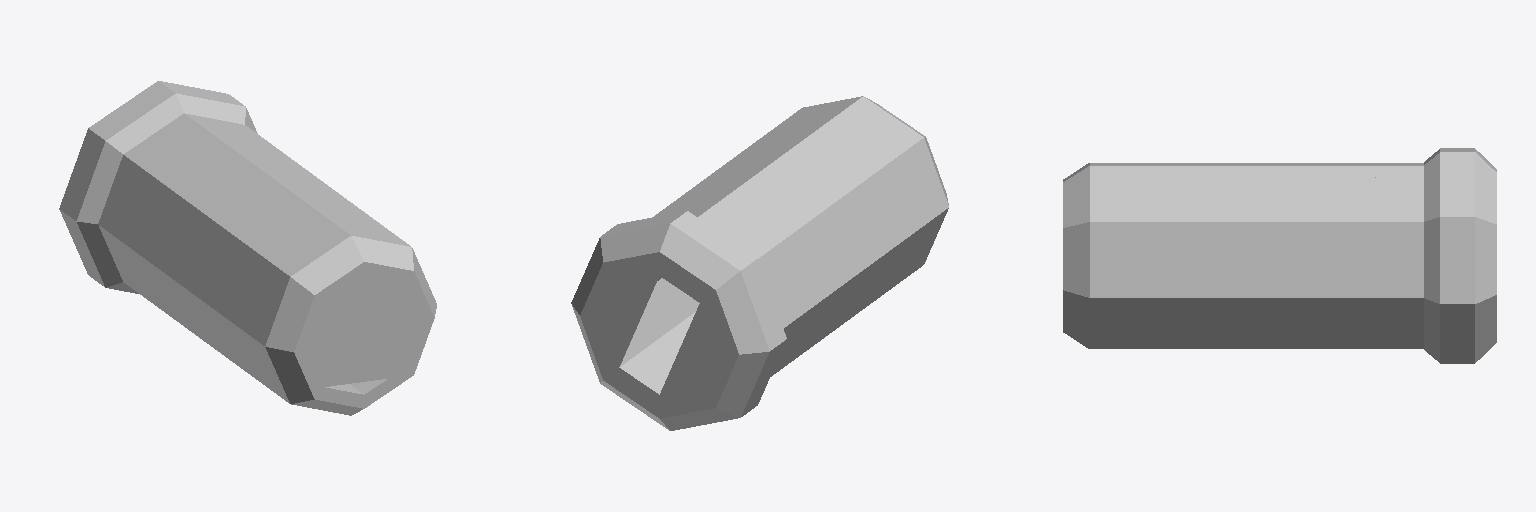
File: Muzzle.obj
3 views of the same model, side by side, from view 1: azimuth 30°, elevation 25°; view 2: azimuth 150°, elevation 25°; view 3: azimuth 270°, elevation 25° (orthographic).
Parts seen in each view (by area): view 1: Cylinder.003; view 2: Cylinder.003; view 3: Cylinder.003.
Boxes of the visible parts, x1,y1,x2,y2 form: Cylinder.003: [59, 81, 436, 415]; Cylinder.003: [571, 96, 948, 430]; Cylinder.003: [1063, 148, 1496, 363].
Bounding box in the file's own units: 0.1462 × 0.1462 × 0.2763.